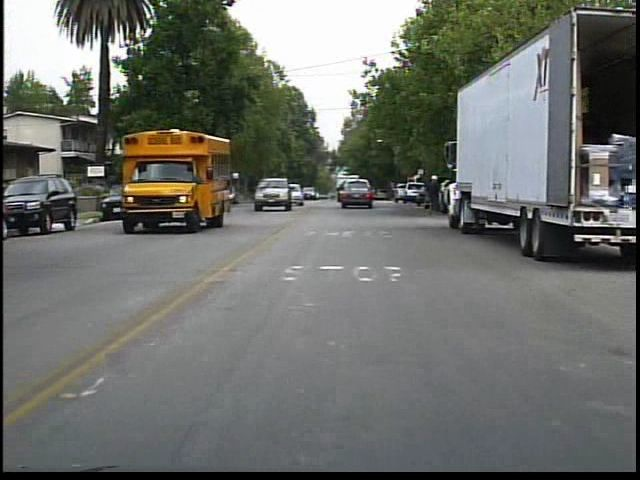person: (420, 172, 443, 220)
